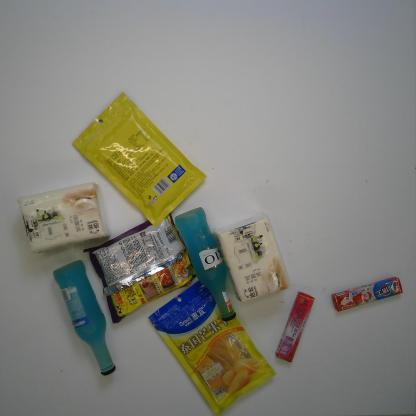Alcohol: (52, 259, 116, 377), (174, 206, 237, 322)
Candy: (274, 291, 315, 362), (330, 276, 404, 312)
Dried Fruit: (71, 91, 208, 228), (148, 276, 276, 416)
Instant Noodles: (82, 208, 198, 324)
Tissue: (213, 212, 292, 304), (18, 182, 111, 254)
